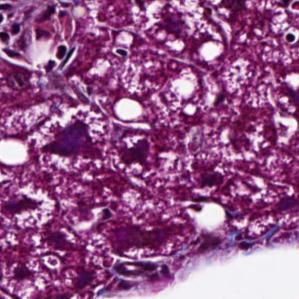inflammation: (0, 22, 55, 61)
